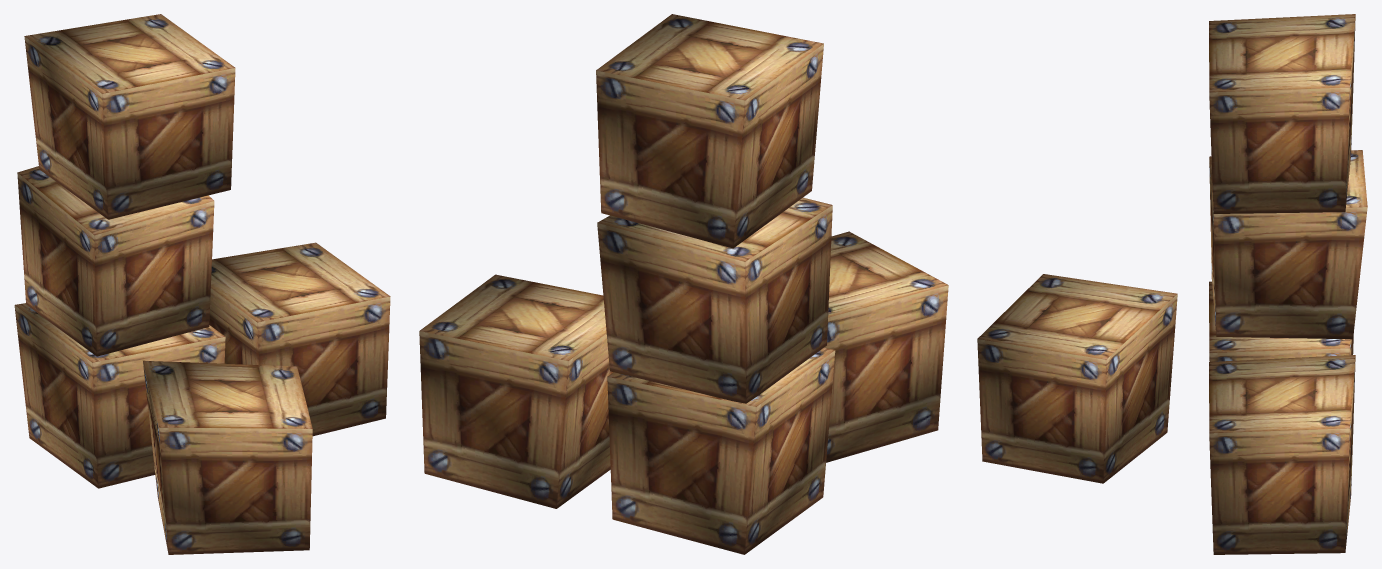
File: obj_macoprbo01-01.glb
3 views of the same model, side by side, from view 1: azimuth 30°, elevation 25°; view 2: azimuth 150°, elevation 25°; view 3: azimuth 270°, elevation 25° (orthographic). The views are drawn at different scales.
Parts seen in each view (by area): view 1: part_0; view 2: part_0; view 3: part_0.
Boxes of the visible parts, x1,y1,x2,y2 form: part_0: (14, 14, 390, 554); part_0: (419, 14, 948, 554); part_0: (977, 14, 1367, 554).
Size of the model in its own units: 1.86 by 2.26 by 2.
Materials: 1 (1 with a texture image).
